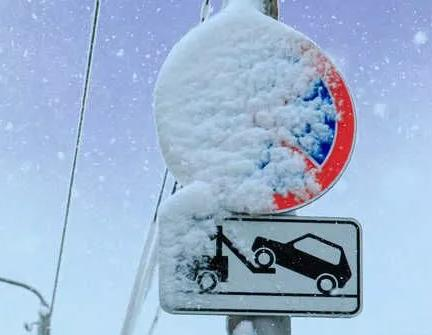obstructed_road_sign: (157, 11, 354, 210), (158, 216, 364, 316)
